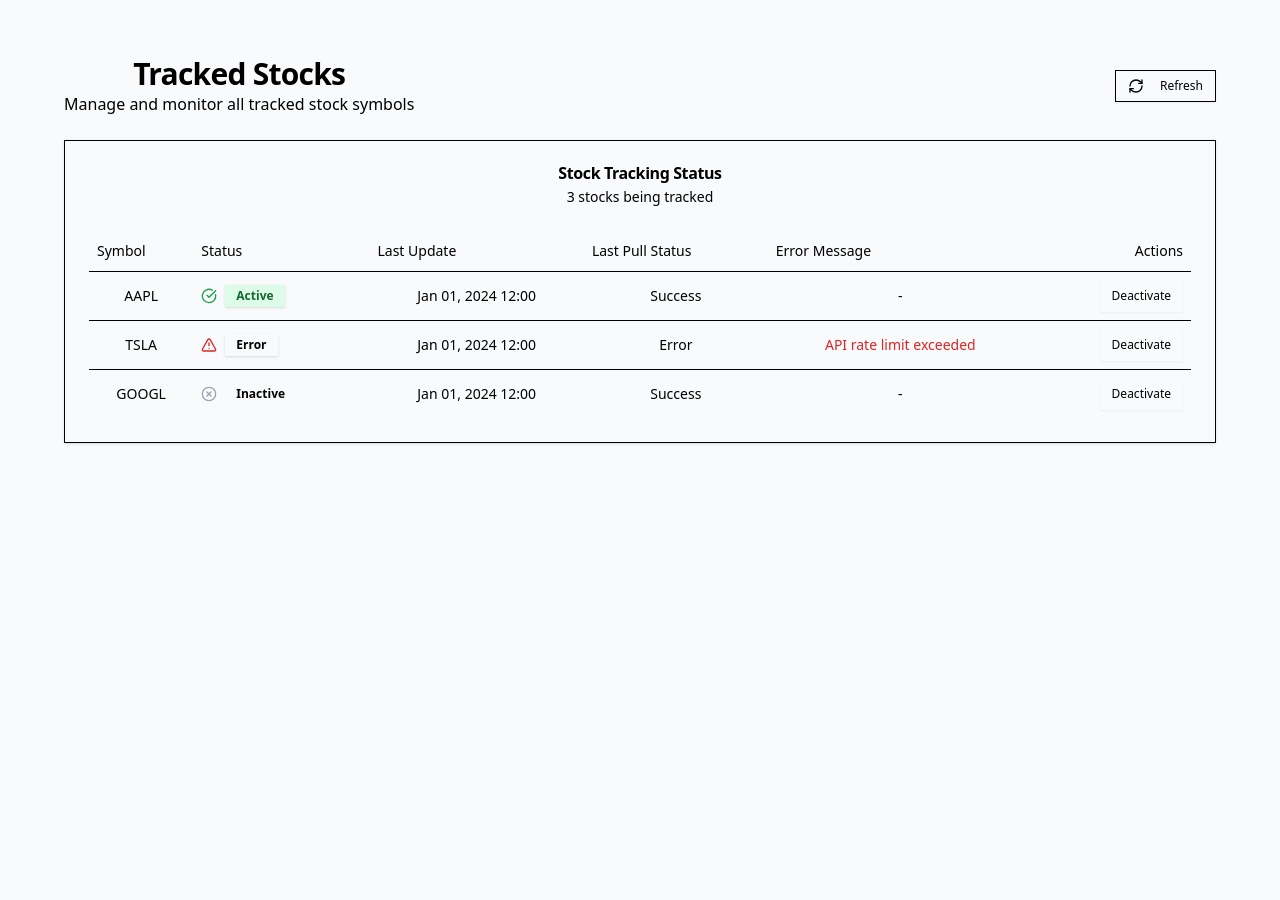
Test: TrackedStocksPage › handles stock deactivation successfully
This screenshot has width=1280, height=900.
Expected: the text "AAPL" is shown, [89, 271, 193, 320]
# Click deactivate button
Click the button "Deactivate" in the row of "AAPL".
click(1141, 296)  # box [1100, 280, 1183, 312]
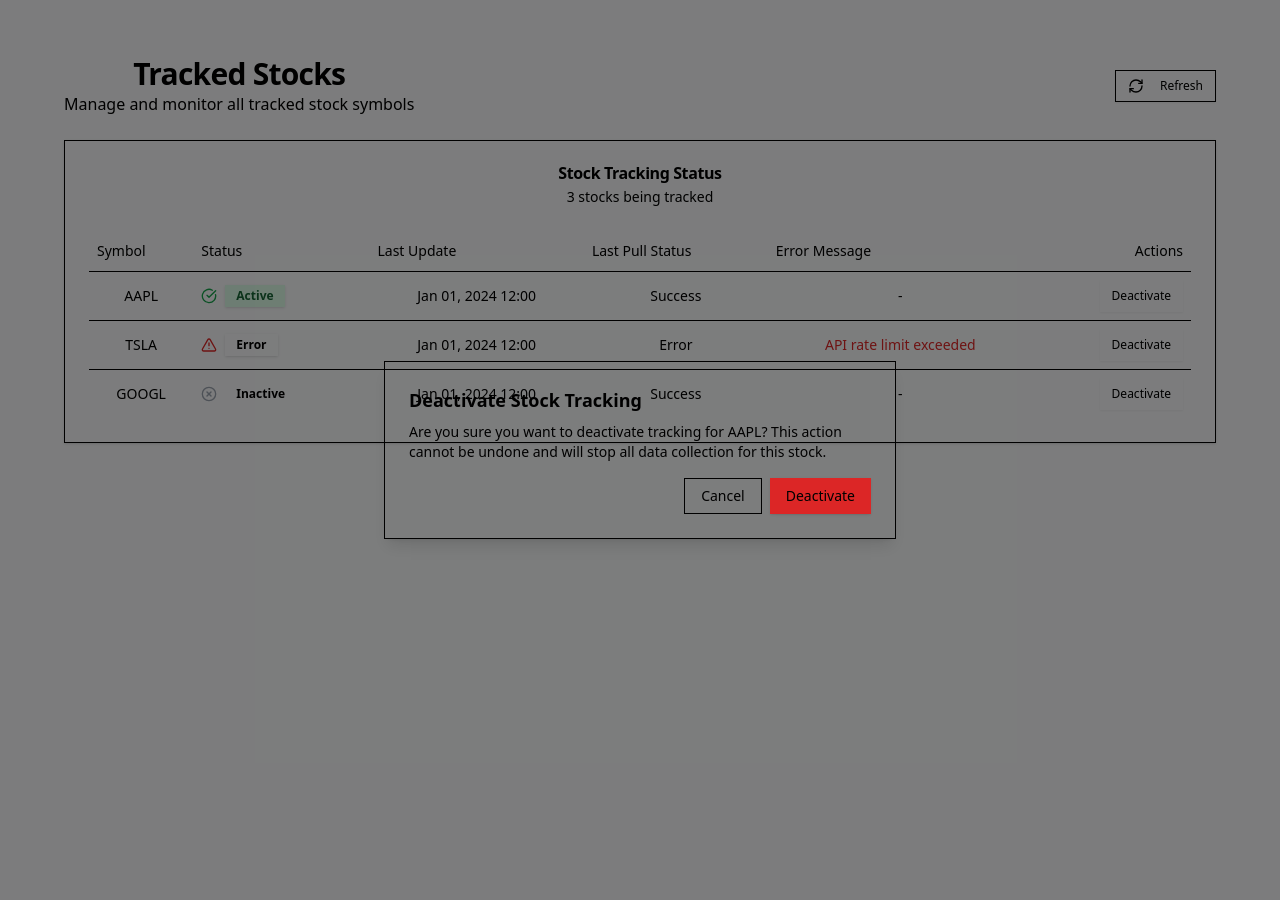
# Confirm deactivation
Click the button "Deactivate".
click(820, 496)  # box [770, 478, 871, 514]
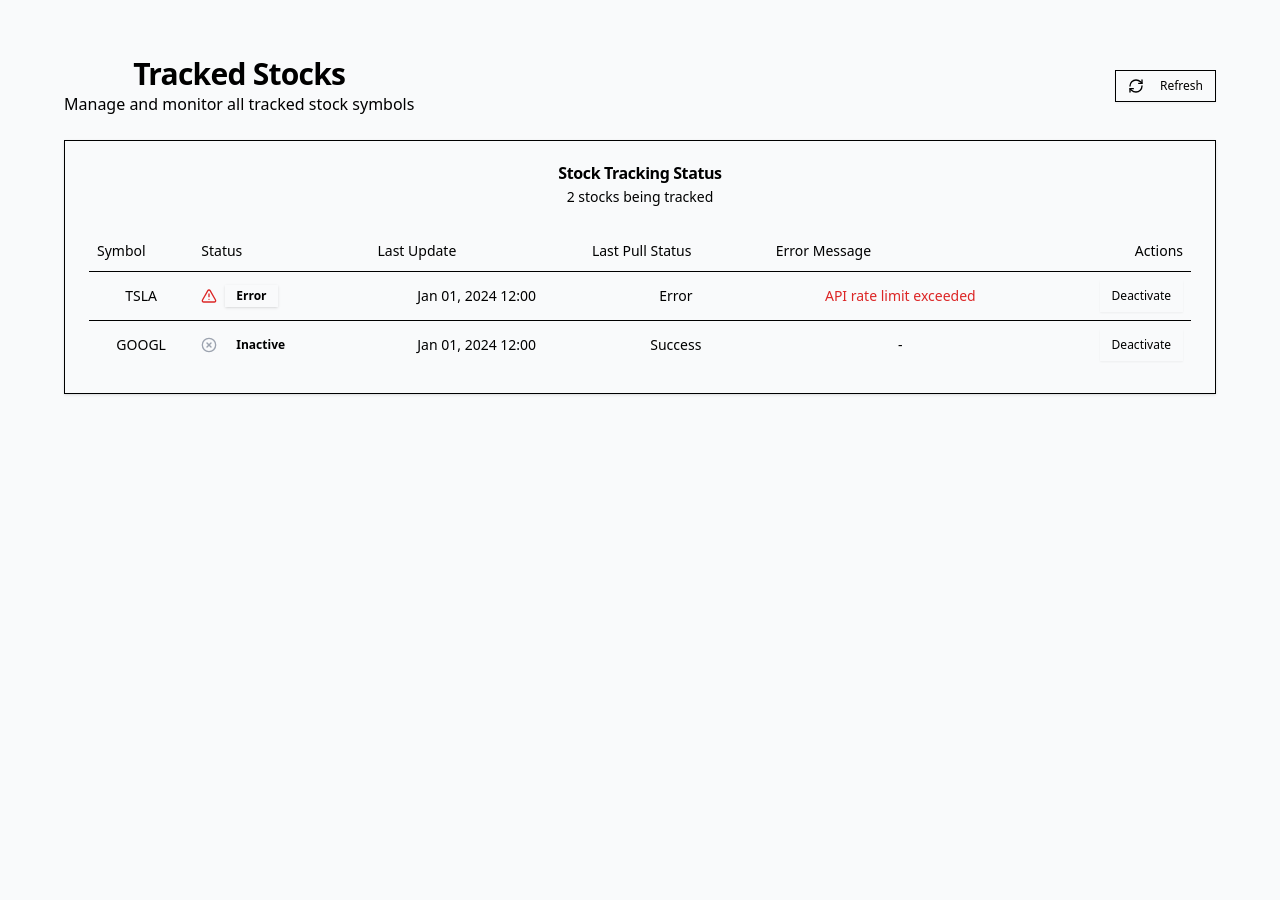
Result: the text "AAPL" is gone
